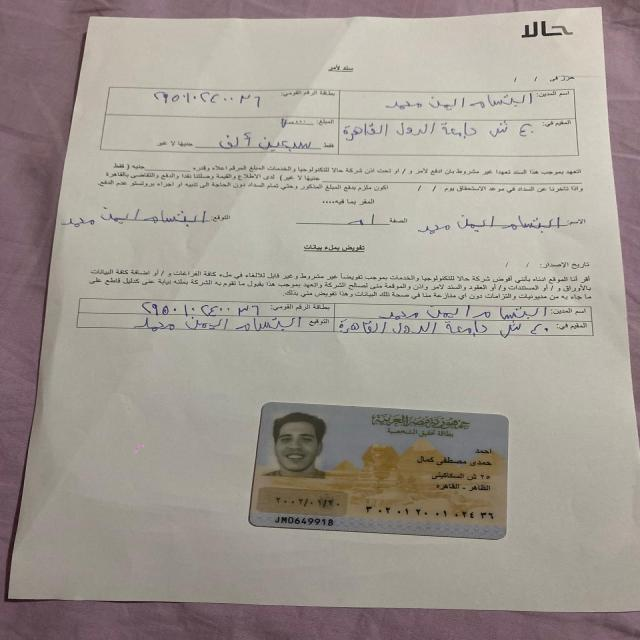id_card: (239, 397, 520, 550)
